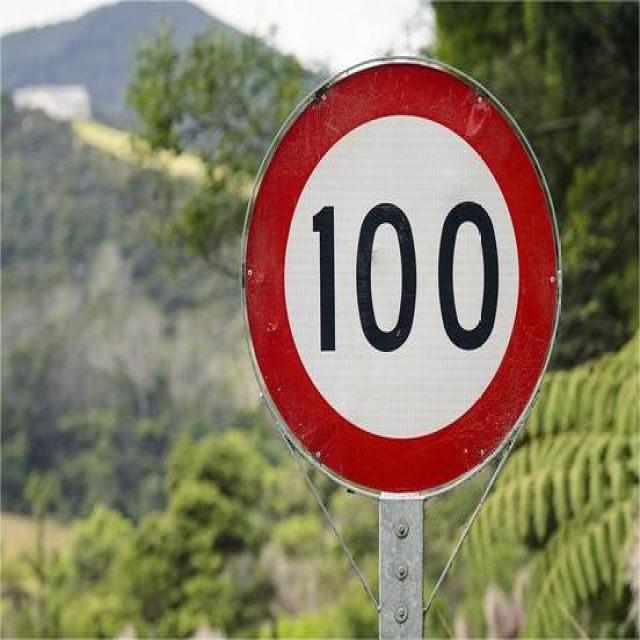speed limit 100: (240, 60, 564, 499)
